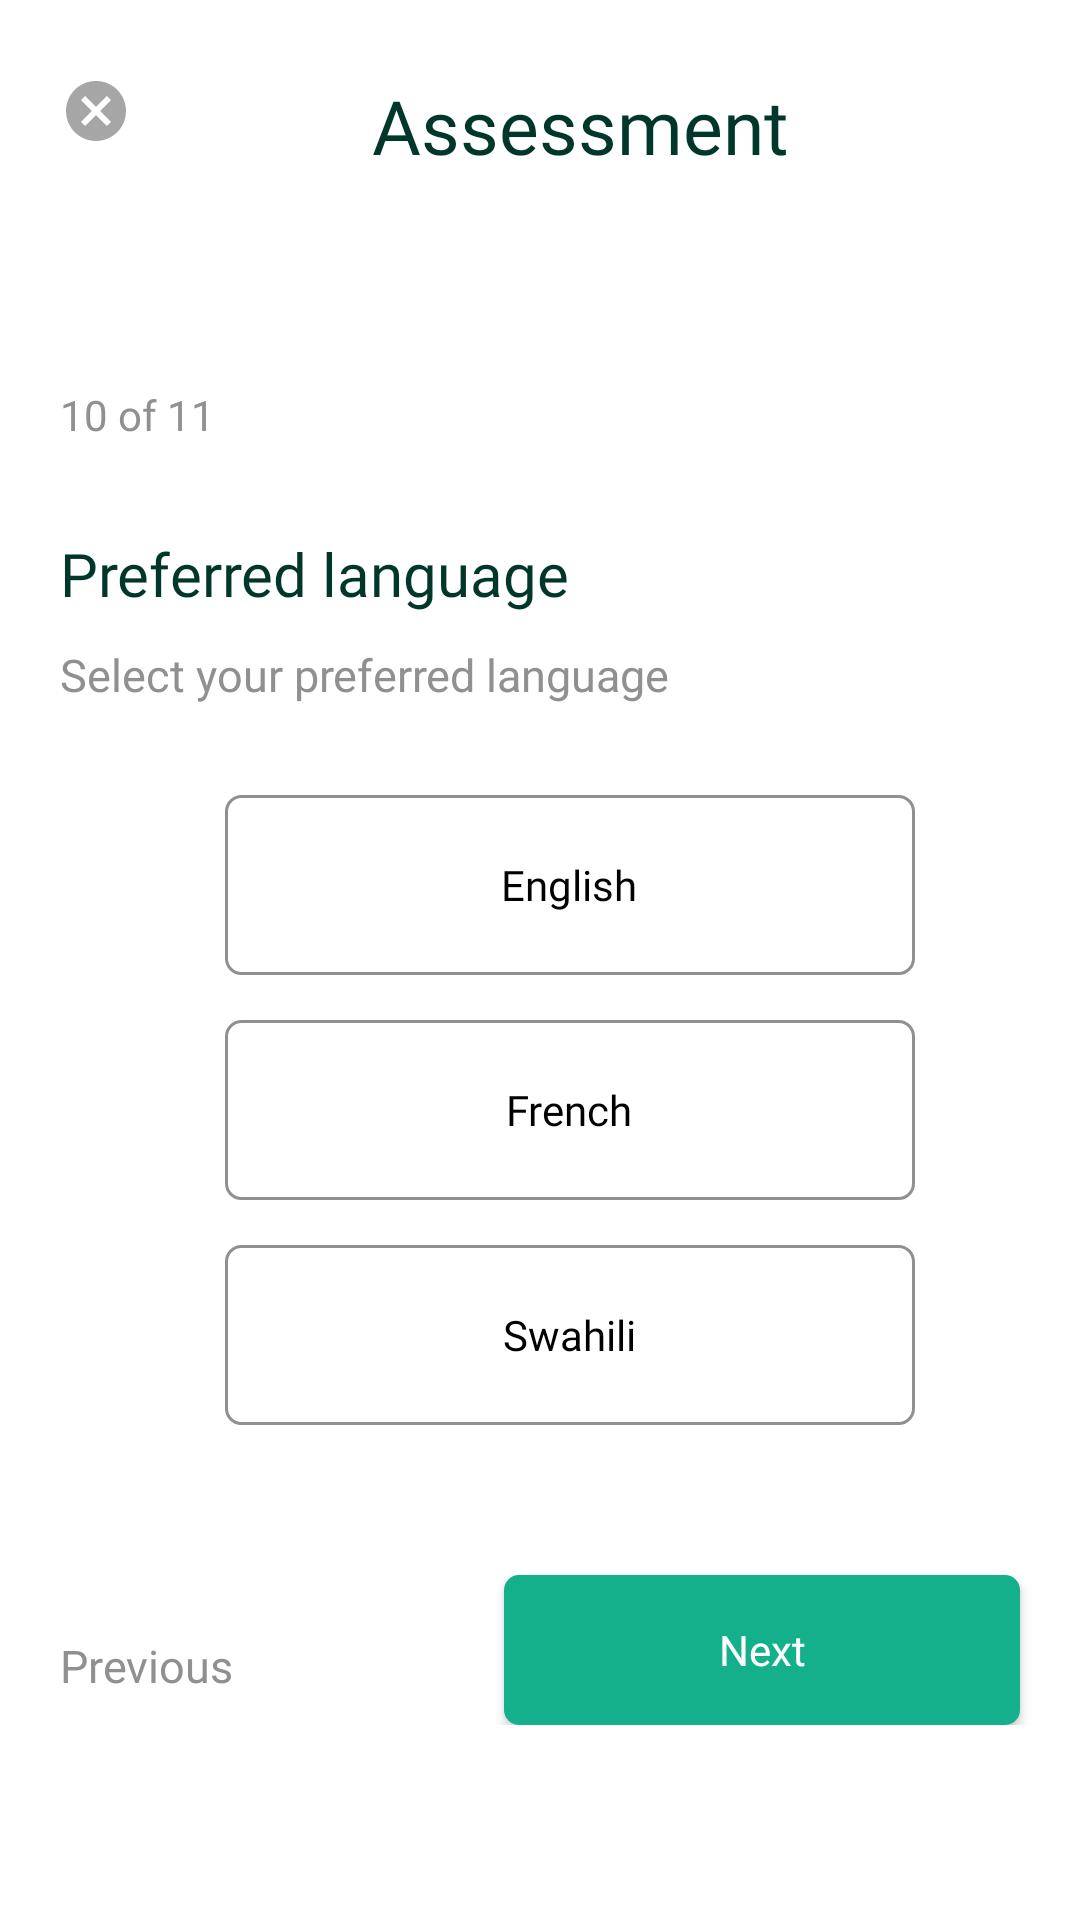

Named icons in this screenshot (1080px x 1920px) and their bounding boxes, (x1, y1, x2, y2):
cancel: (66, 81, 126, 141)
